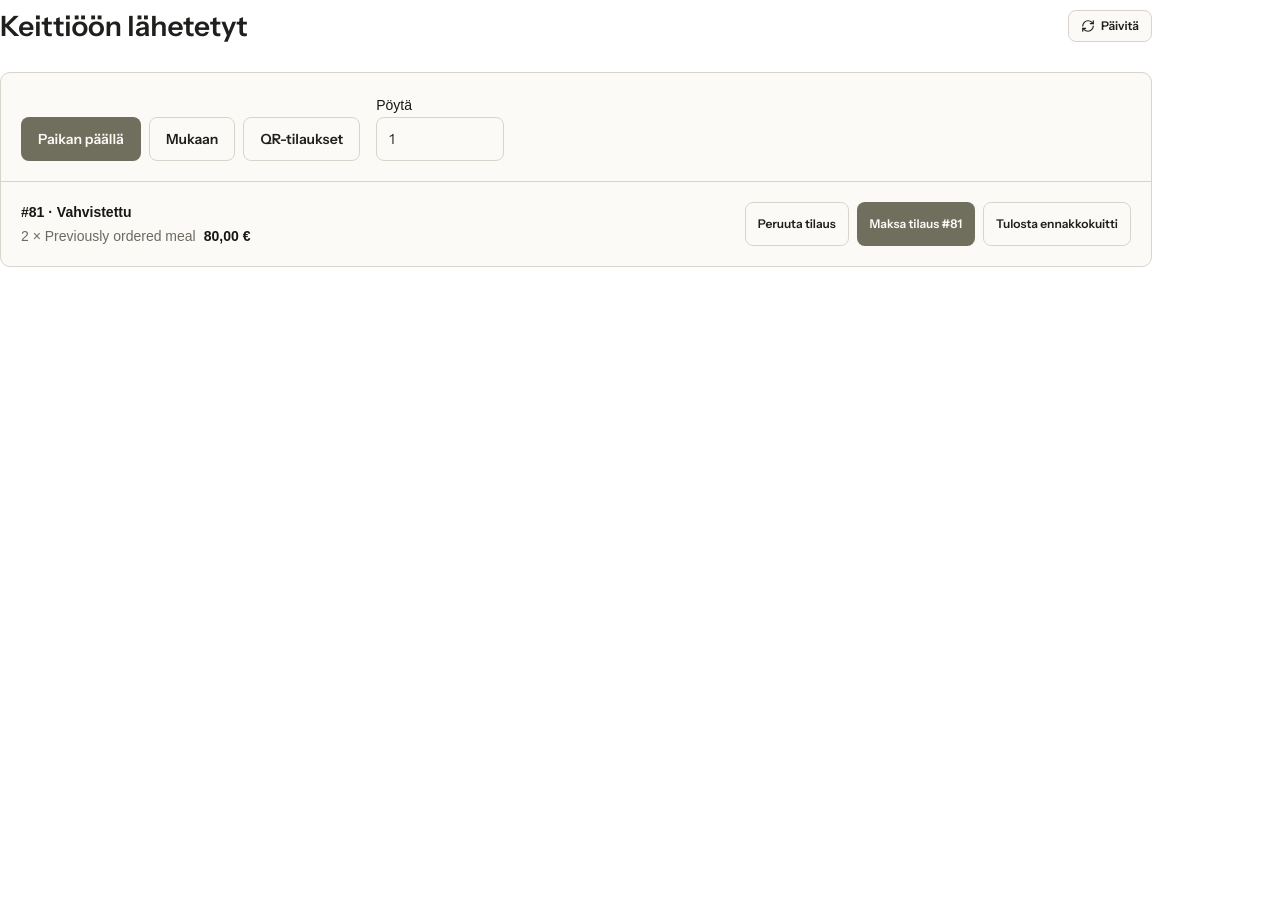
Test: POS safety net › opens cancellation from the detail and requires a reason before saving
The image size is (1280, 900).
Click the button with aria-label "Näytä tilaus #81": click(94, 212) [21,202,721,246]
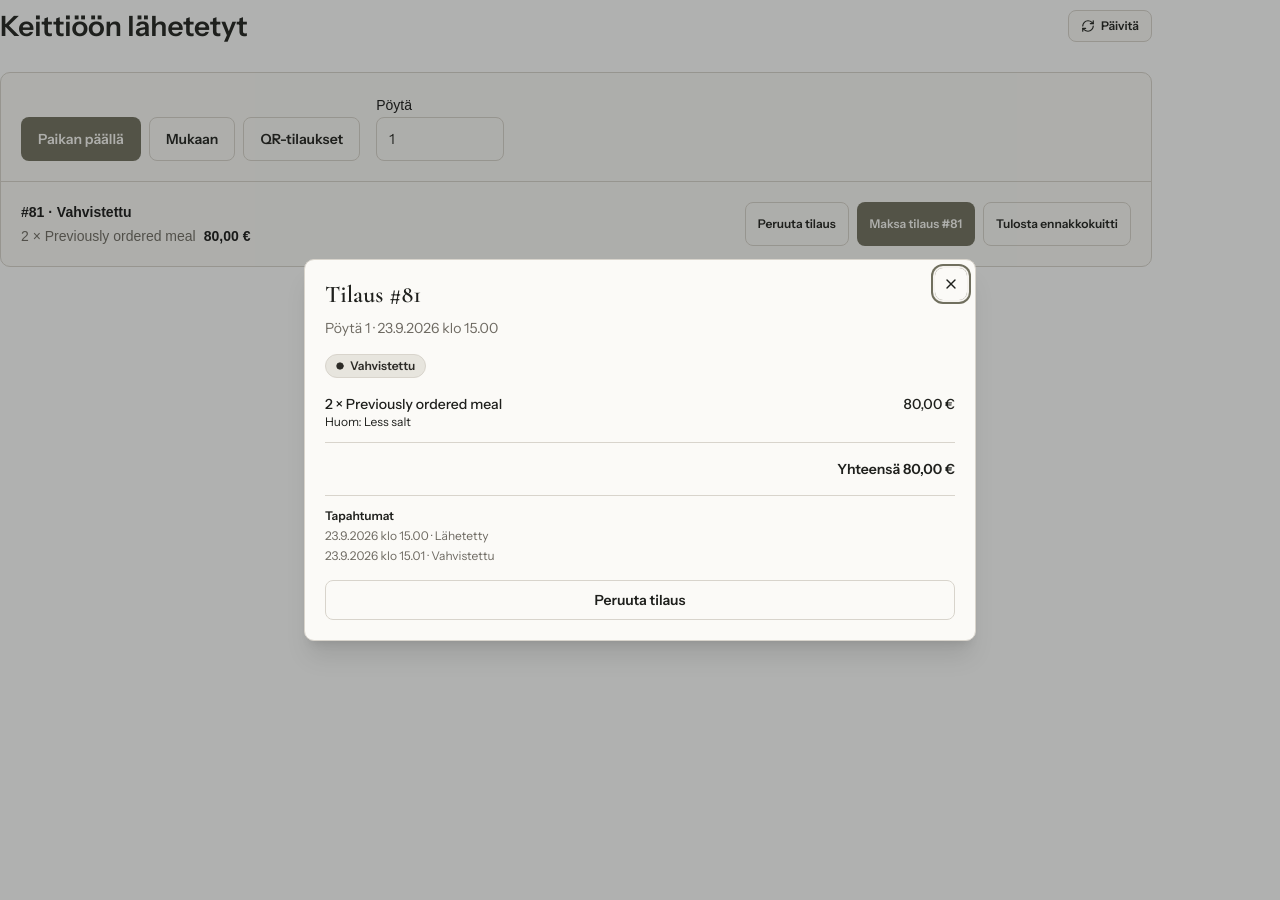
expect the text "Huom: Less salt" is shown: met, box [325,414,411,429]
expect the text "Tapahtumat" is shown: met, box [325,508,394,523]
Click the button "Peruuta tilaus": click(640, 600) [325,580,955,620]
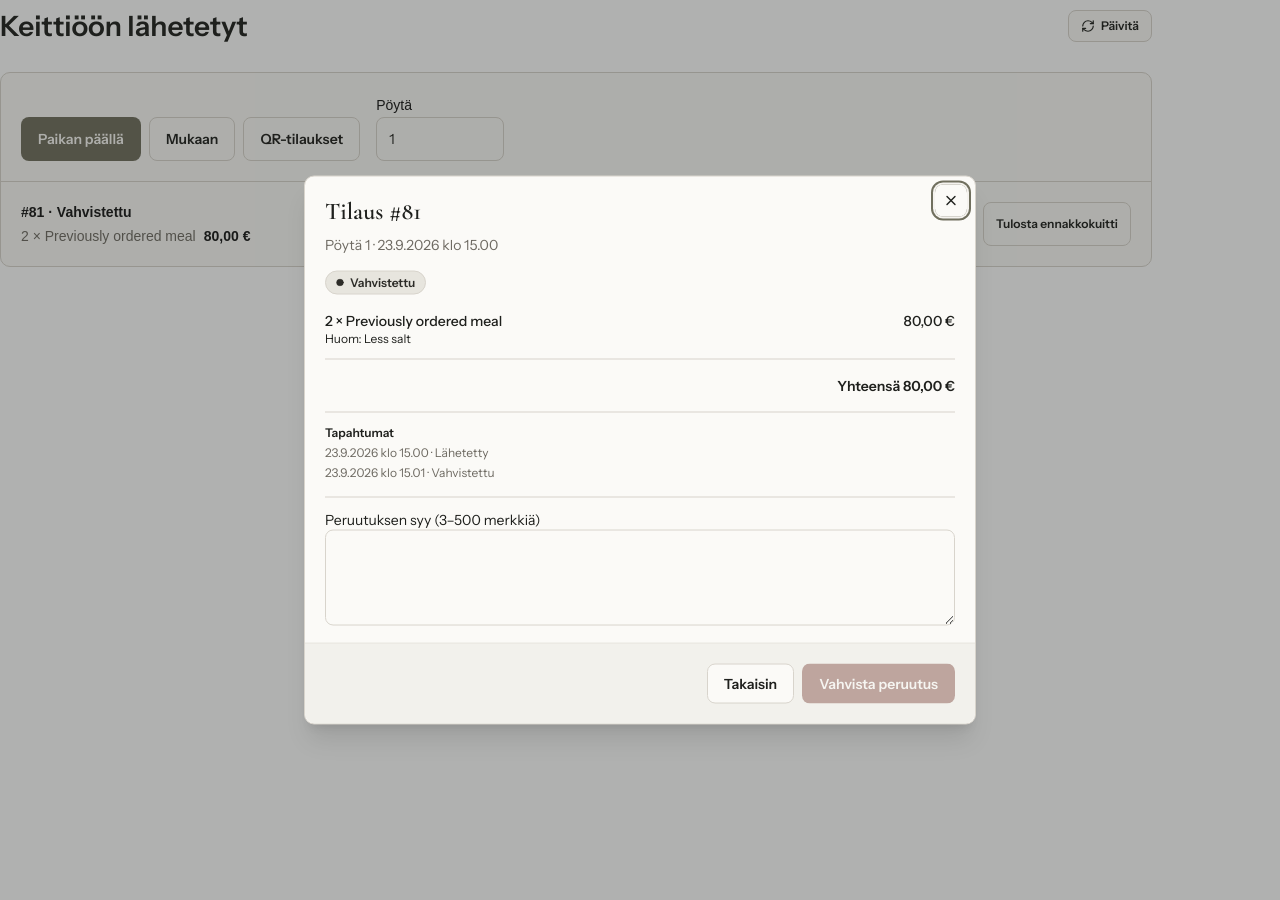
expect the button "Vahvista peruutus" is disabled: met, box [802,664,955,704]
In the text box: (640, 578) [325,530,955,626], type "Customer request"
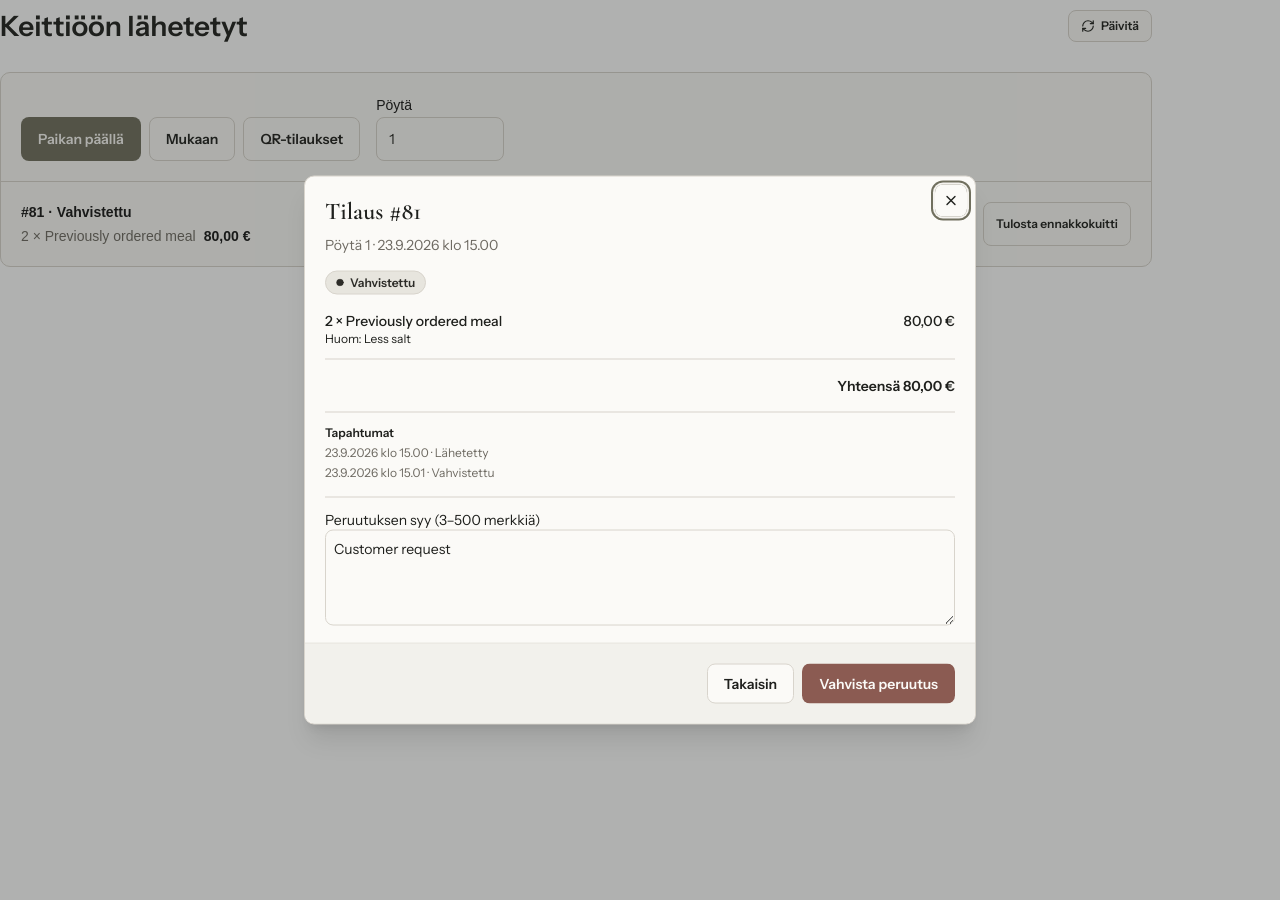
Click the button "Vahvista peruutus": click(879, 684) [802,664,955,704]
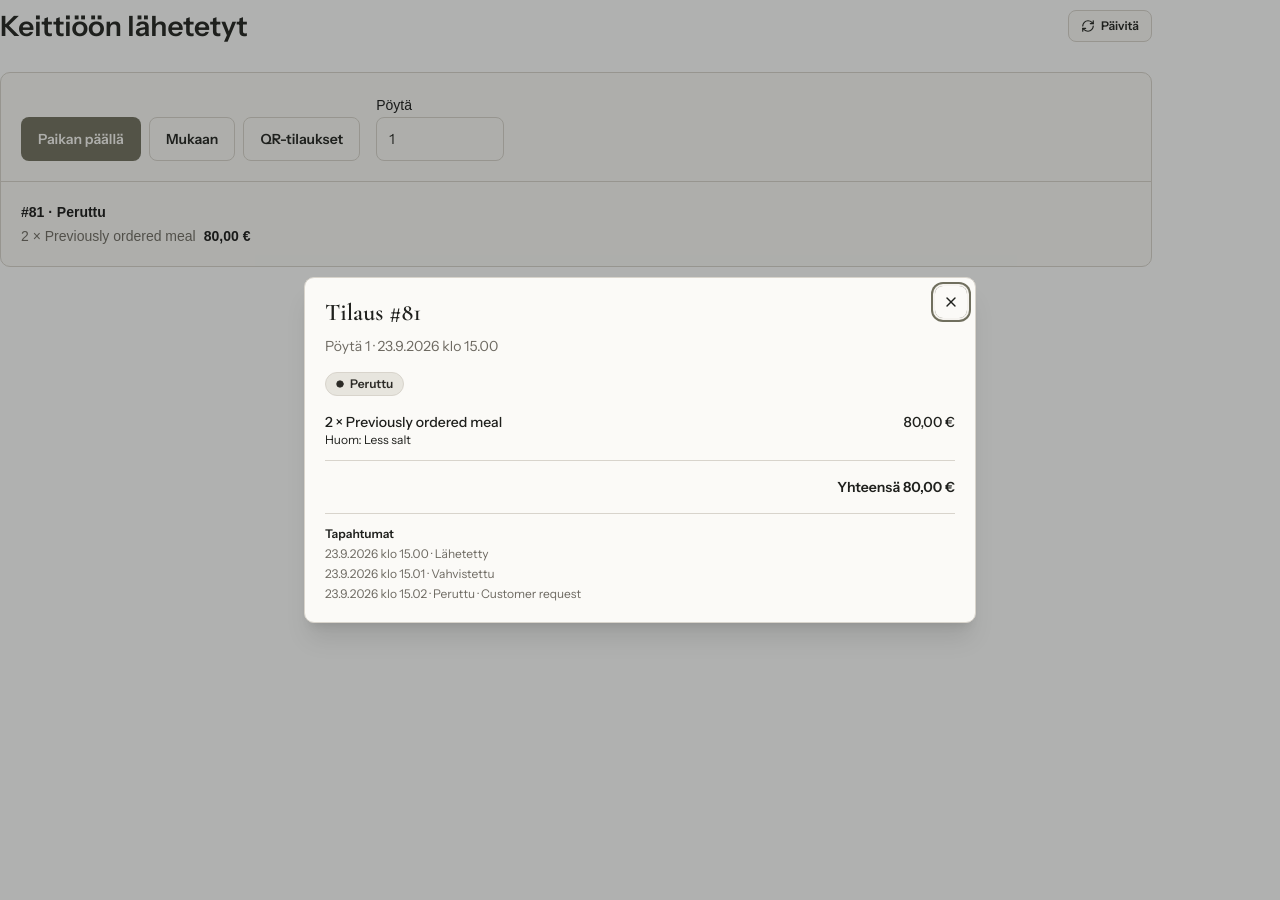
expect the text "23.9.2026 klo 15.02 · Peruttu · Customer request" is shown: met, box [325,586,581,601]
expect the button "Peruuta tilaus" is gone: met
expect the button "Maksa tilaus #81" is gone: met
